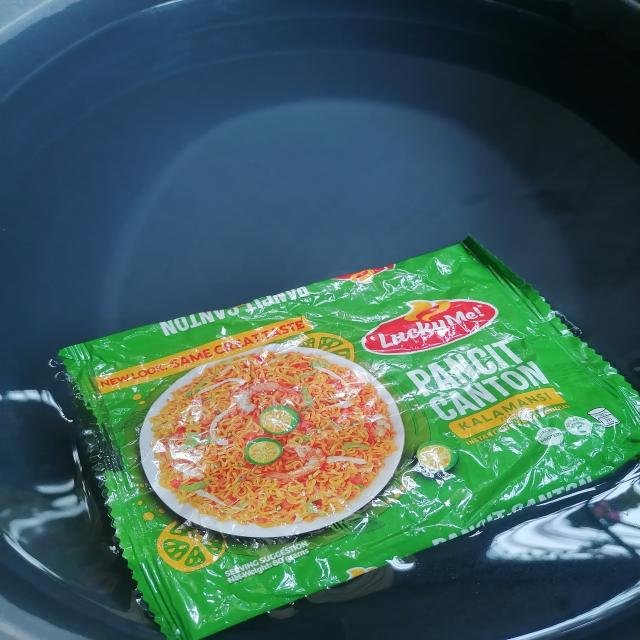Plastic Wrapper: (60, 238, 640, 640)
